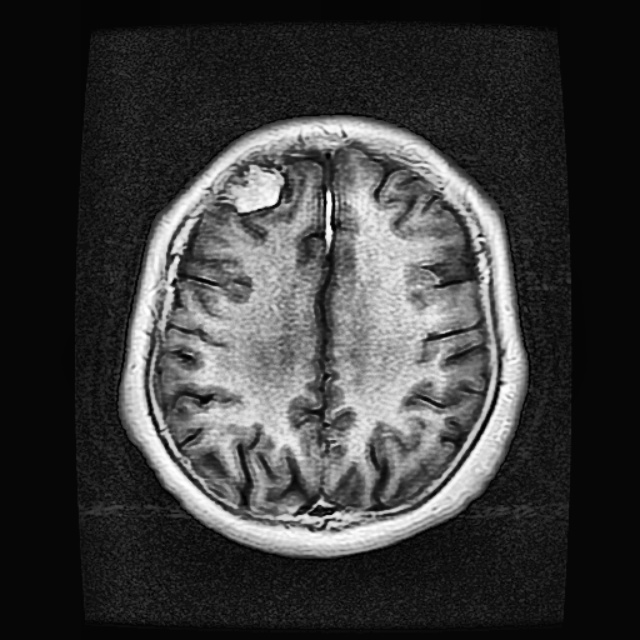Glioma: (219, 164, 284, 213)
